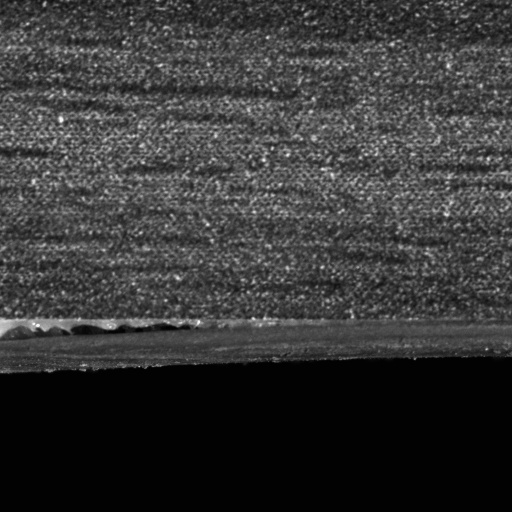kaijiao: (0, 310, 362, 375)
